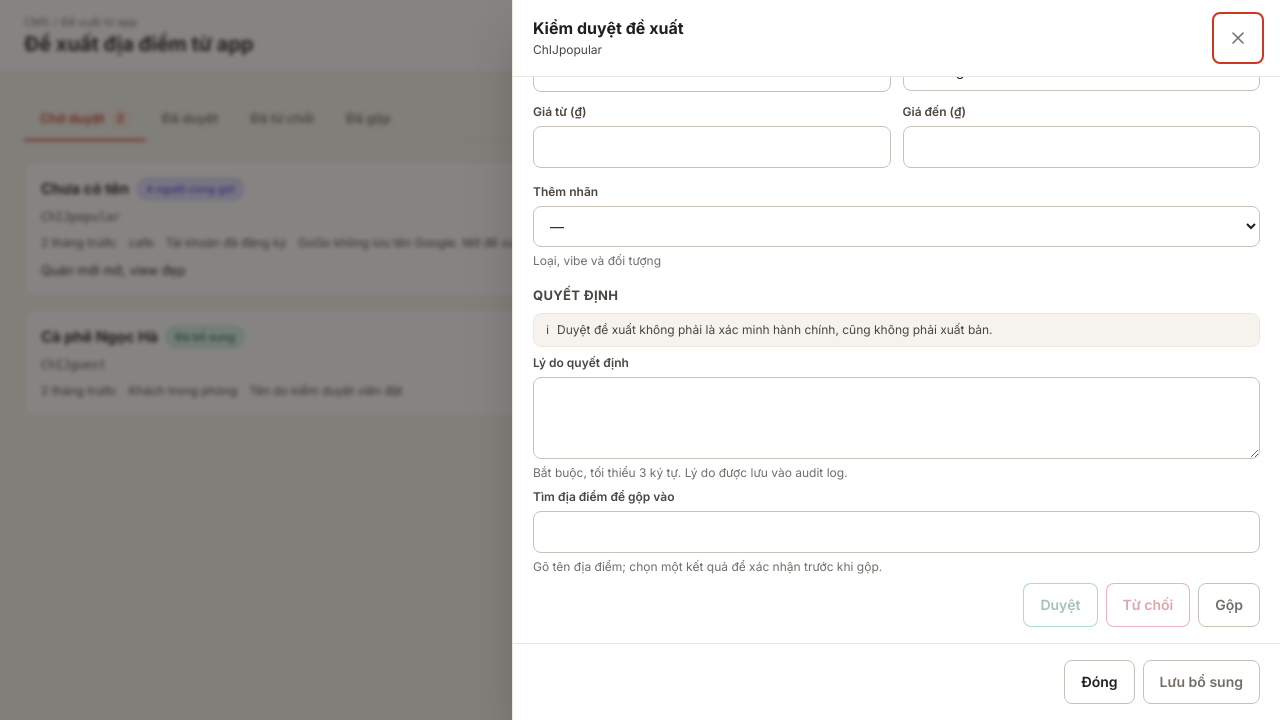
Test: the decisions › refuses to decide until a reason is written
(page scrolled)
Check: the button "Duyệt" is disabled, box [1023, 583, 1098, 627]
Type "quán hợp lệ" into the text box labelled "Lý do quyết định" at (896, 418), box [533, 377, 1260, 459]
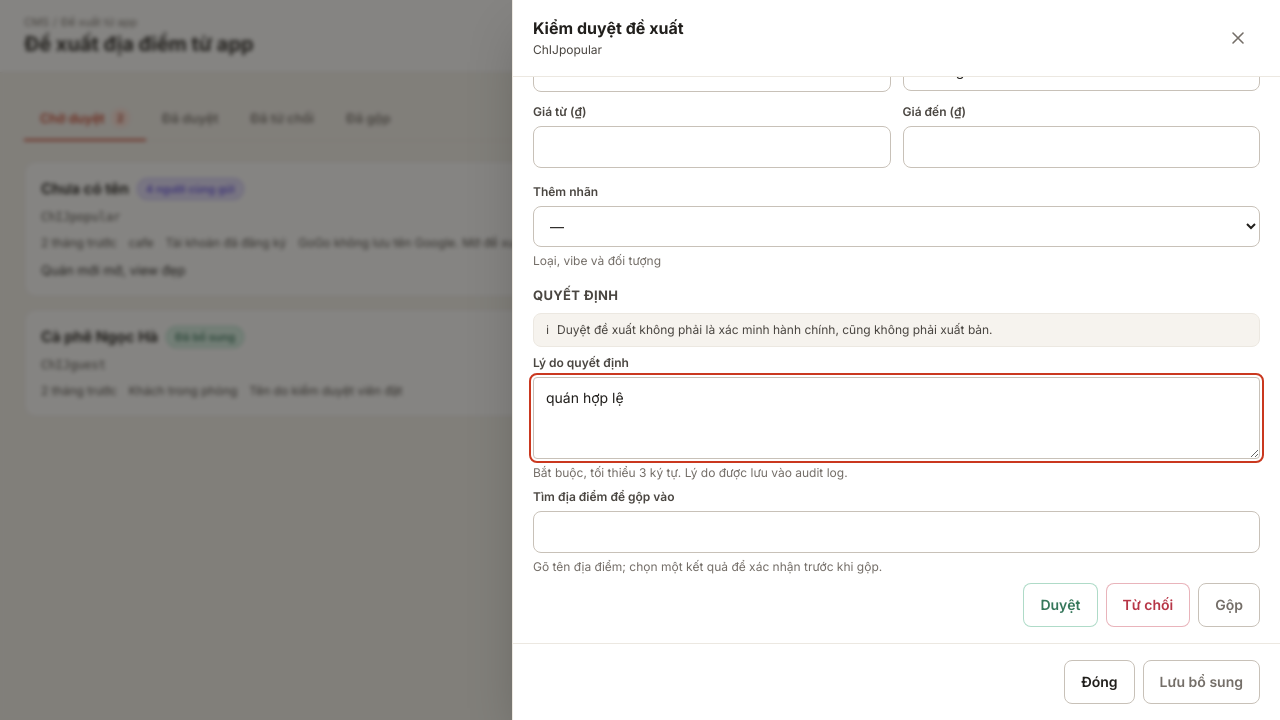
Check: the button "Duyệt" is enabled, box [1023, 583, 1098, 627]
